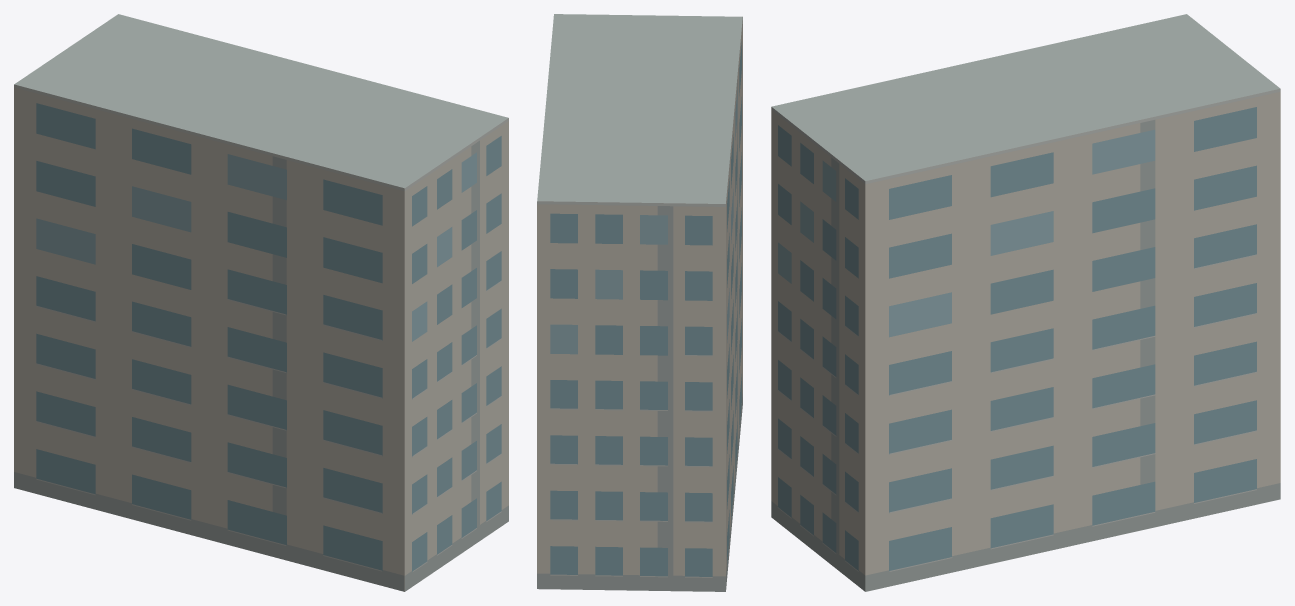
The model's file is survey-upis-32837977.glb.
The picture shows the model from 3 angles, left to right: view 1: azimuth 30°, elevation 25°; view 2: azimuth 150°, elevation 25°; view 3: azimuth 270°, elevation 25°; orthographic projection. The views are drawn at different scales.
Parts seen in each view (by area): view 1: survey-upis-32837977.tmp; view 2: survey-upis-32837977.tmp; view 3: survey-upis-32837977.tmp.
Part boxes in pixels (x1,y1,x2,y2): survey-upis-32837977.tmp: [14, 14, 508, 591]; survey-upis-32837977.tmp: [537, 14, 742, 591]; survey-upis-32837977.tmp: [771, 14, 1280, 591].
Size of the model in its own units: 28.3 by 32.4 by 36.42.
